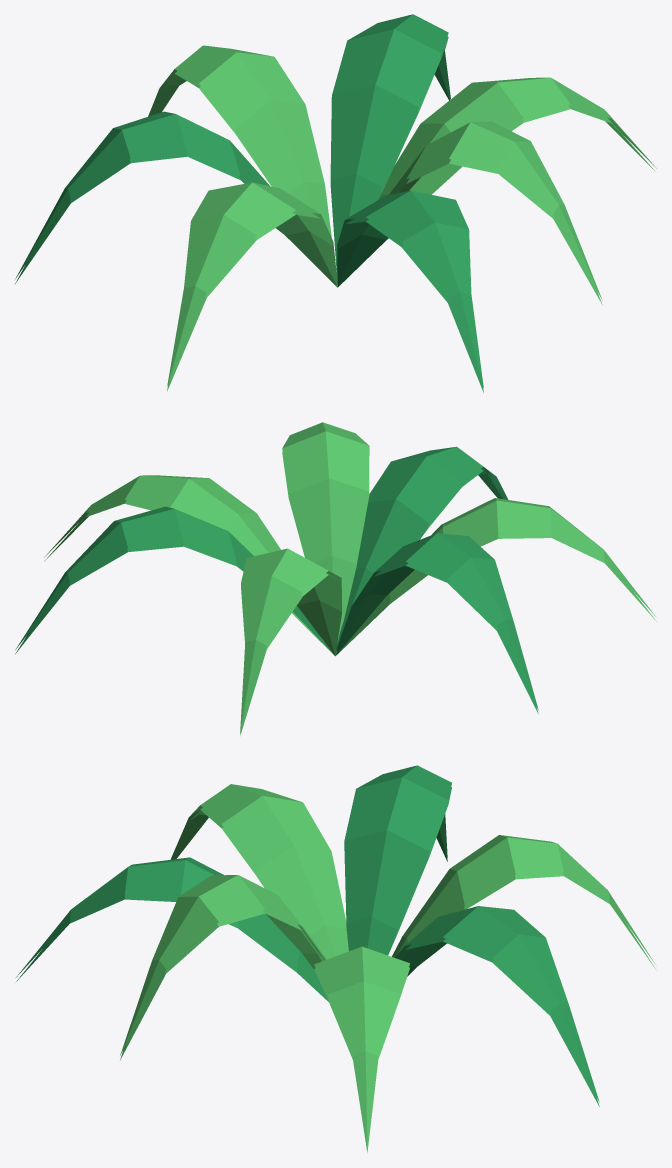
Rendered from Fern1.fbx.
The picture shows the model from 3 angles, top to bottom: view 1: azimuth 30°, elevation 25°; view 2: azimuth 150°, elevation 25°; view 3: azimuth 270°, elevation 25°; orthographic projection. The views are drawn at different scales.
Parts seen in each view (by area): view 1: Fern1; view 2: Fern1; view 3: Fern1.
Part boxes in pixels (left/top/right/bottom): Fern1: left=15, top=14, right=656, bottom=392; Fern1: left=15, top=422, right=656, bottom=735; Fern1: left=16, top=765, right=655, bottom=1152.
Bounding box in the file's own units: 1.67 × 0.5088 × 1.58.
1 material, 1 textured.
